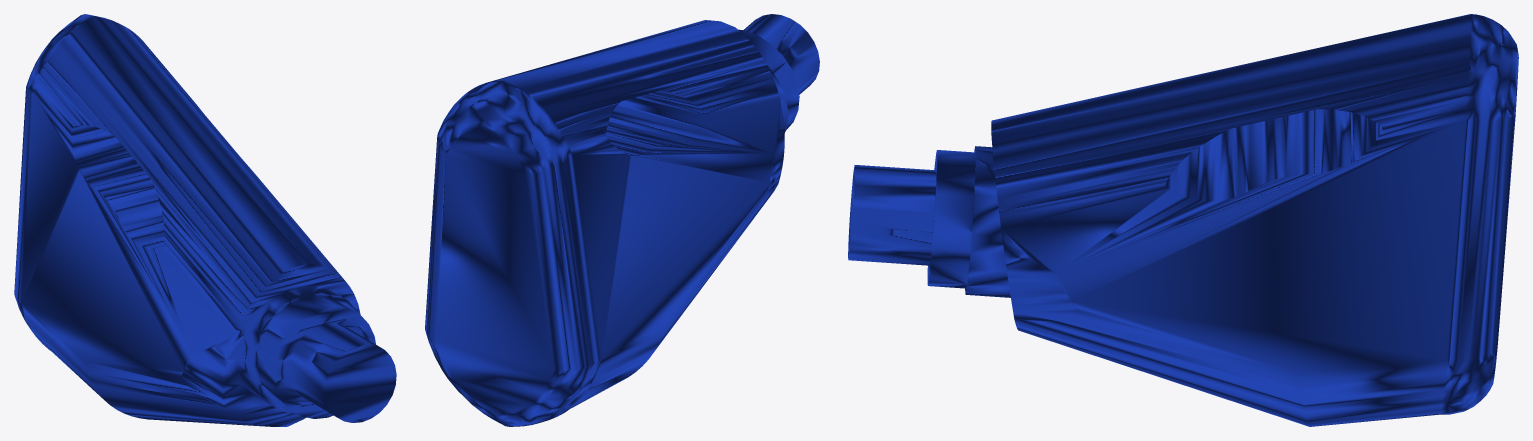
Rendered from model_align.obj.
3 views of the same model, side by side, from view 1: azimuth 30°, elevation 25°; view 2: azimuth 150°, elevation 25°; view 3: azimuth 270°, elevation 25° (orthographic). The views are drawn at different scales.
Bounding box in the file's own units: 0.0543 × 0.1116 × 0.1663.
